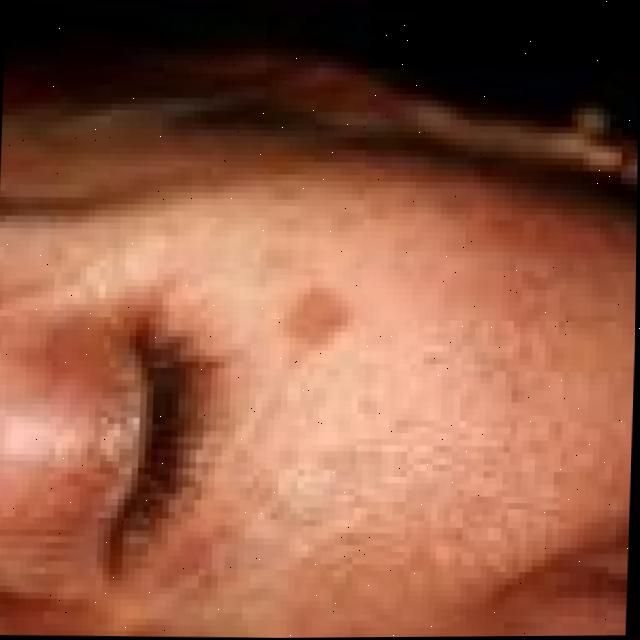Melasma: (273, 164, 637, 638)
